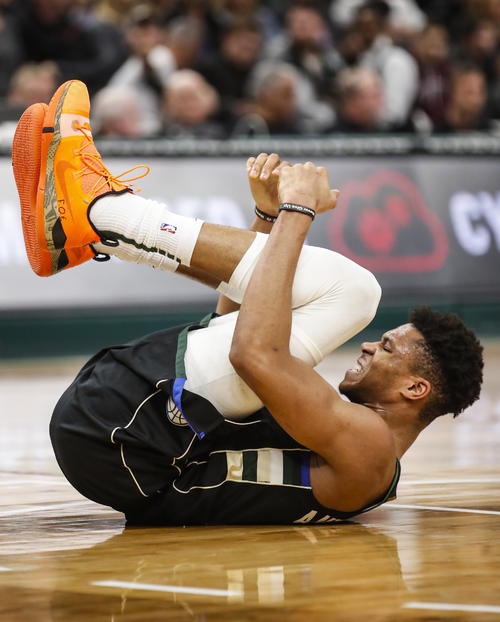fall: (26, 65, 481, 553)
